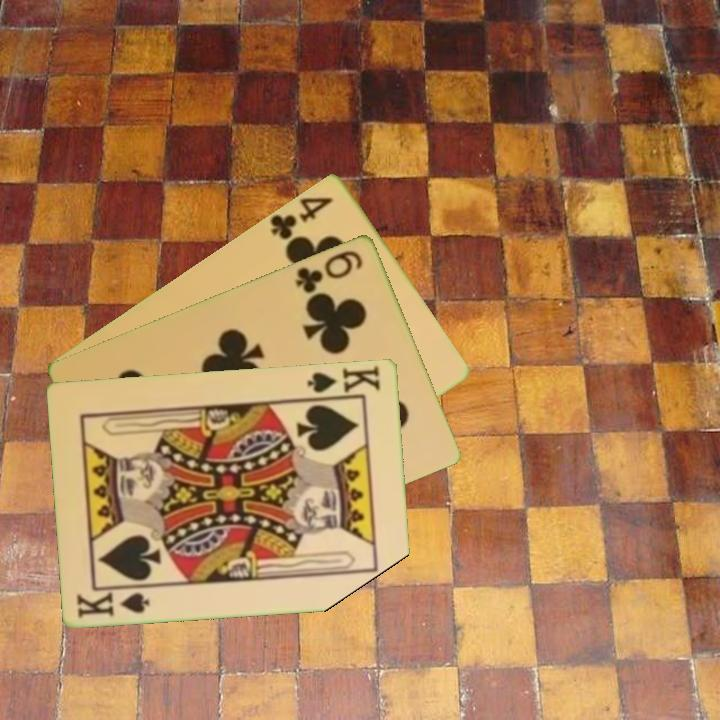4c: (266, 192, 337, 242)
6c: (291, 246, 366, 296)
Ks: (304, 362, 383, 395), (73, 588, 153, 620)
